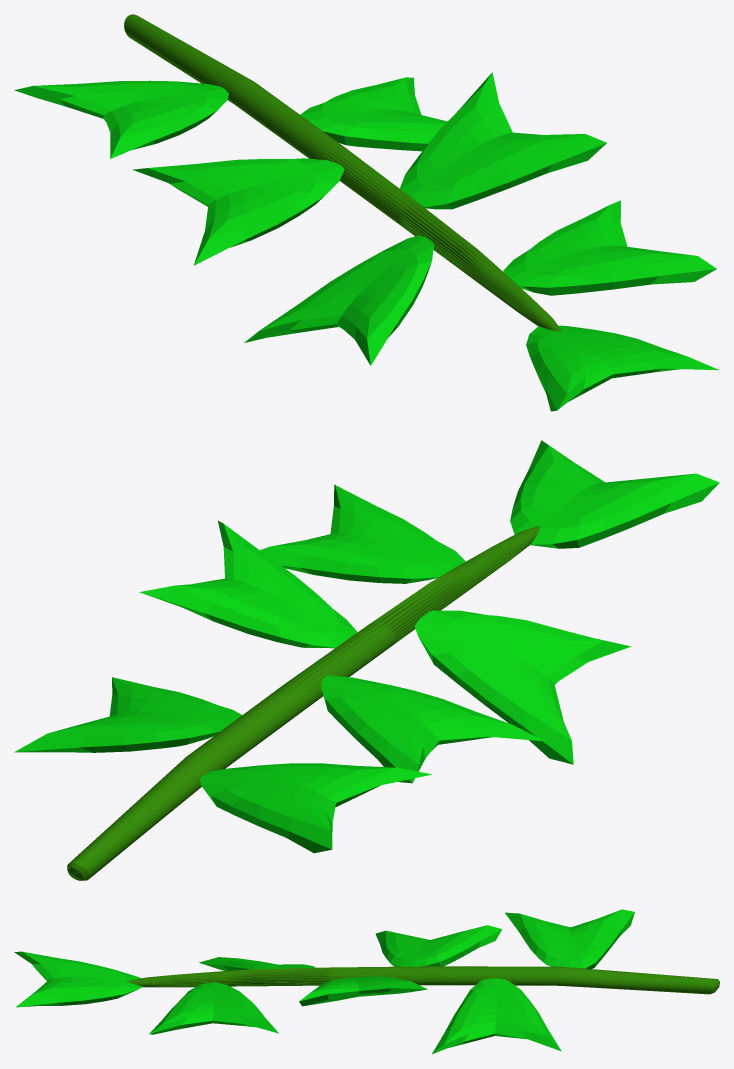
Rendered from compoundLeaf3.fbx.
3 renders of one model, top to bottom at view 1: azimuth 30°, elevation 25°; view 2: azimuth 150°, elevation 25°; view 3: azimuth 270°, elevation 25°, orthographic. The views are drawn at different scales.
Visible parts, largest first — view 1: Stipe, Cube.001, Leaflet0, Cube.002, Leaflet3, Cube.003, Leaflet1, Leaflet2; view 2: Stipe, Leaflet3, Leaflet1, Cube.001, Cube.003, Leaflet0, Cube.002, Leaflet2; view 3: Stipe, Leaflet2, Cube.003, Leaflet1, Cube.002, Leaflet0, Cube.001, Leaflet3.
Boxes of the visible parts, x1=… form: Stipe: x1=124, y1=14, x2=561, y2=331; Cube.001: x1=400, y1=72, x2=606, y2=209; Leaflet0: x1=132, y1=158, x2=344, y2=265; Cube.002: x1=503, y1=200, x2=716, y2=295; Leaflet3: x1=244, y1=235, x2=433, y2=365; Cube.003: x1=14, y1=80, x2=228, y2=158; Leaflet1: x1=526, y1=325, x2=719, y2=411; Leaflet2: x1=300, y1=77, x2=447, y2=151; Stipe: x1=67, y1=526, x2=540, y2=880; Leaflet3: x1=414, y1=610, x2=631, y2=764; Leaflet1: x1=510, y1=440, x2=719, y2=548; Cube.001: x1=139, y1=520, x2=357, y2=648; Cube.003: x1=200, y1=763, x2=432, y2=853; Leaflet0: x1=320, y1=675, x2=544, y2=783; Cube.002: x1=260, y1=484, x2=465, y2=583; Leaflet2: x1=14, y1=677, x2=241, y2=752; Stipe: x1=126, y1=966, x2=719, y2=994; Leaflet2: x1=432, y1=978, x2=561, y2=1054; Cube.003: x1=505, y1=909, x2=634, y2=968; Leaflet1: x1=14, y1=951, x2=142, y2=1007; Cube.002: x1=149, y1=982, x2=278, y2=1034; Leaflet0: x1=375, y1=925, x2=502, y2=966; Cube.001: x1=299, y1=976, x2=427, y2=1006; Leaflet3: x1=199, y1=957, x2=314, y2=970.
Size of the model in its own units: 9.35 by 23.09 by 3.43.
